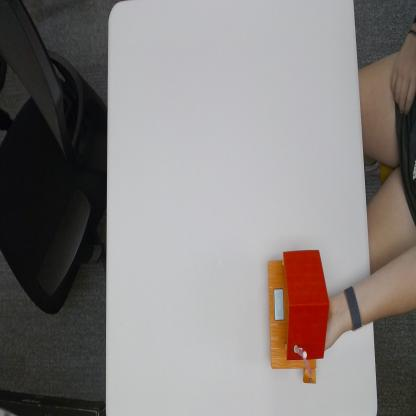Hand: (321, 299, 344, 349)
House: (267, 248, 330, 387)
